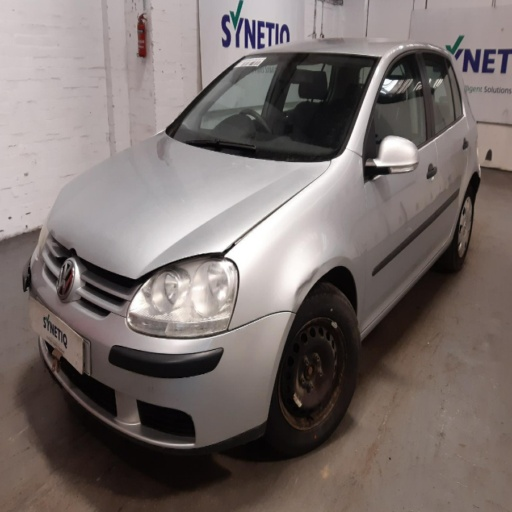dent: (293, 265, 322, 306)
rust: (278, 352, 347, 431), (293, 318, 321, 340)
